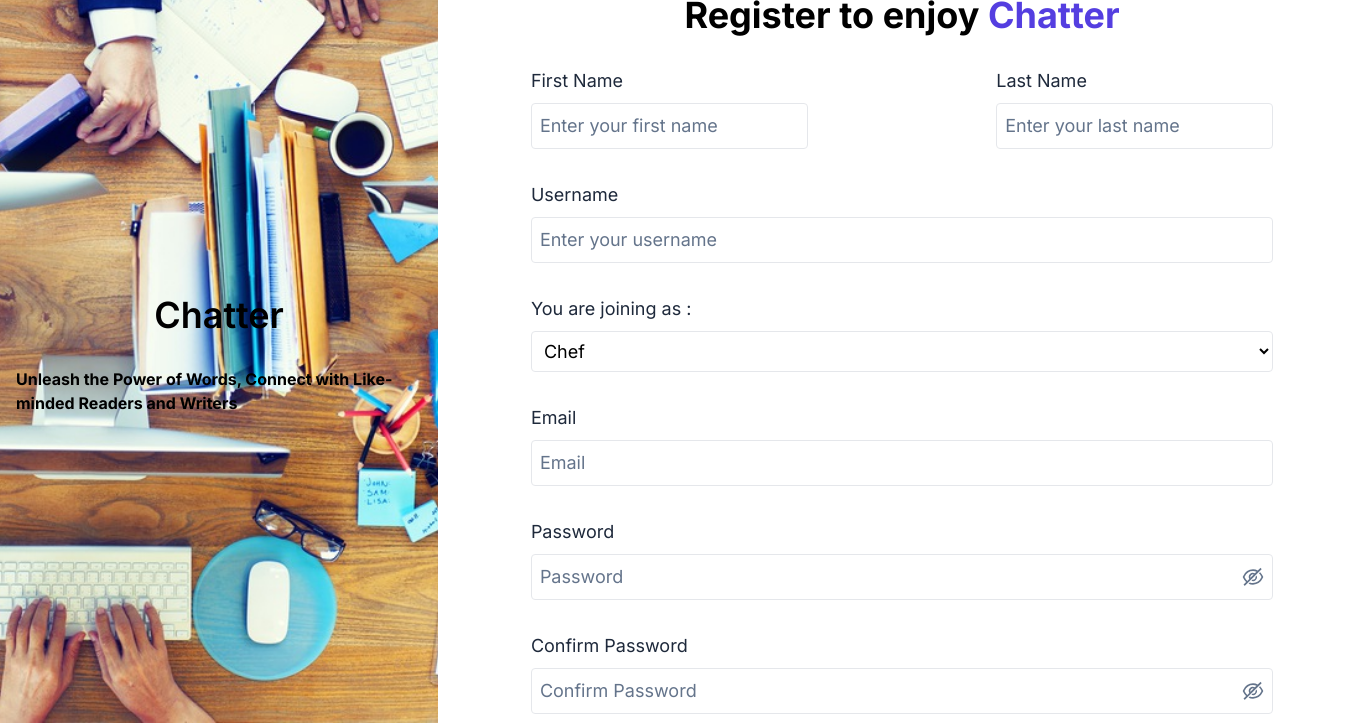
Test case: Sign Up Page › signup functionality › signup with passwords not matching
Type "test123" into the password field with placeholder "Password" at [902, 577], box x1=531 y1=554 x2=1273 y2=600
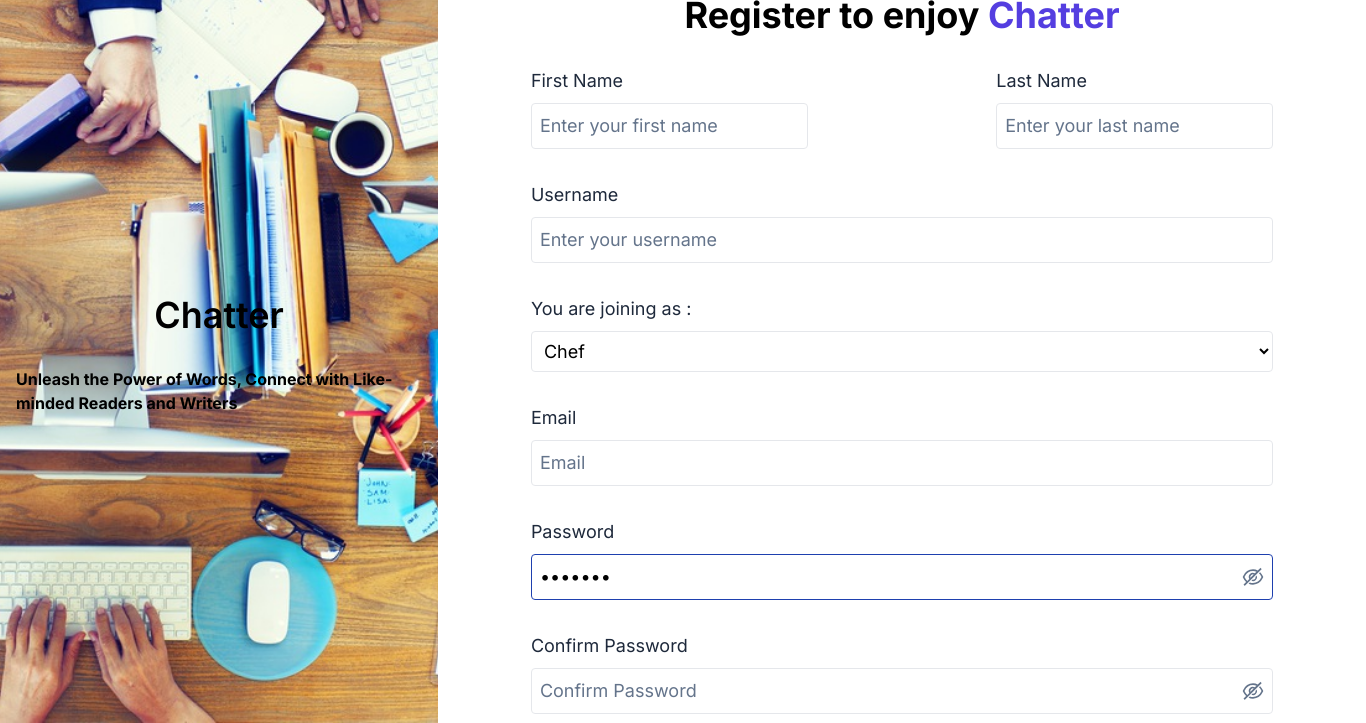
Type "test1234" into the password field with id "confirmPassword" at [902, 691], box x1=531 y1=668 x2=1273 y2=714
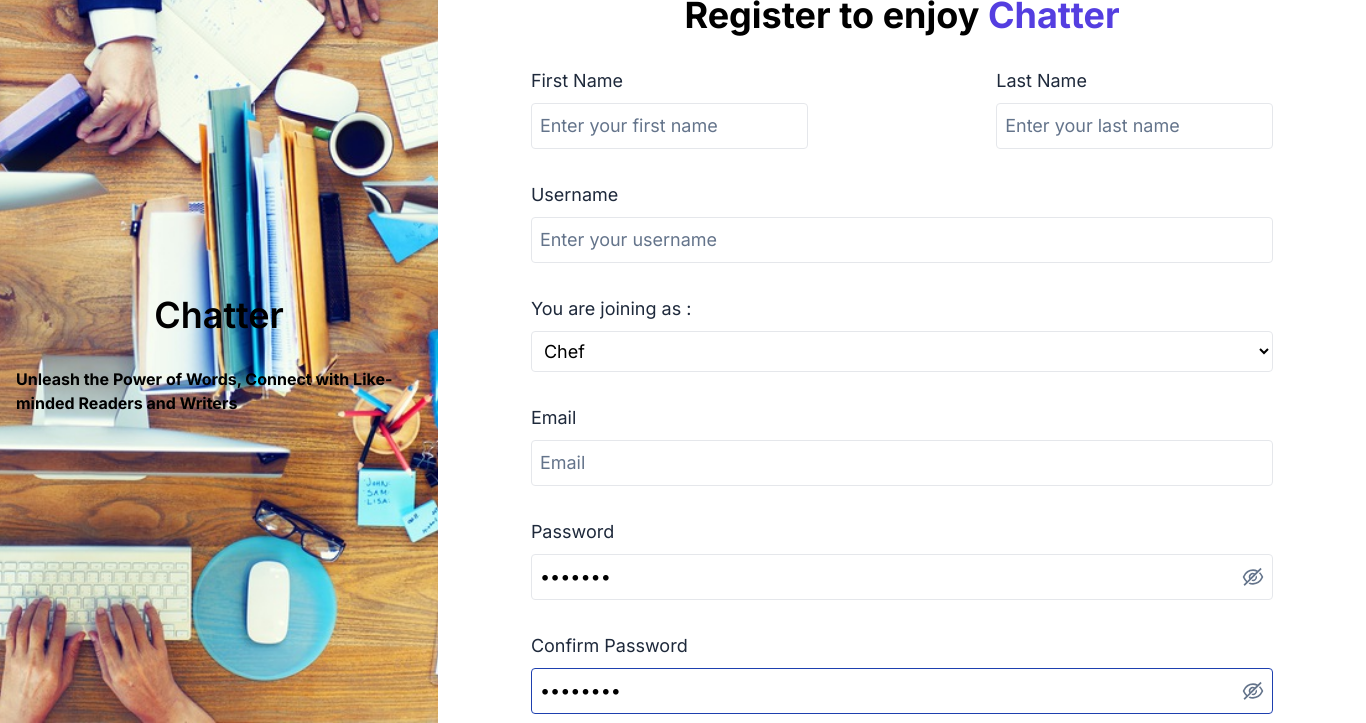
Scroll
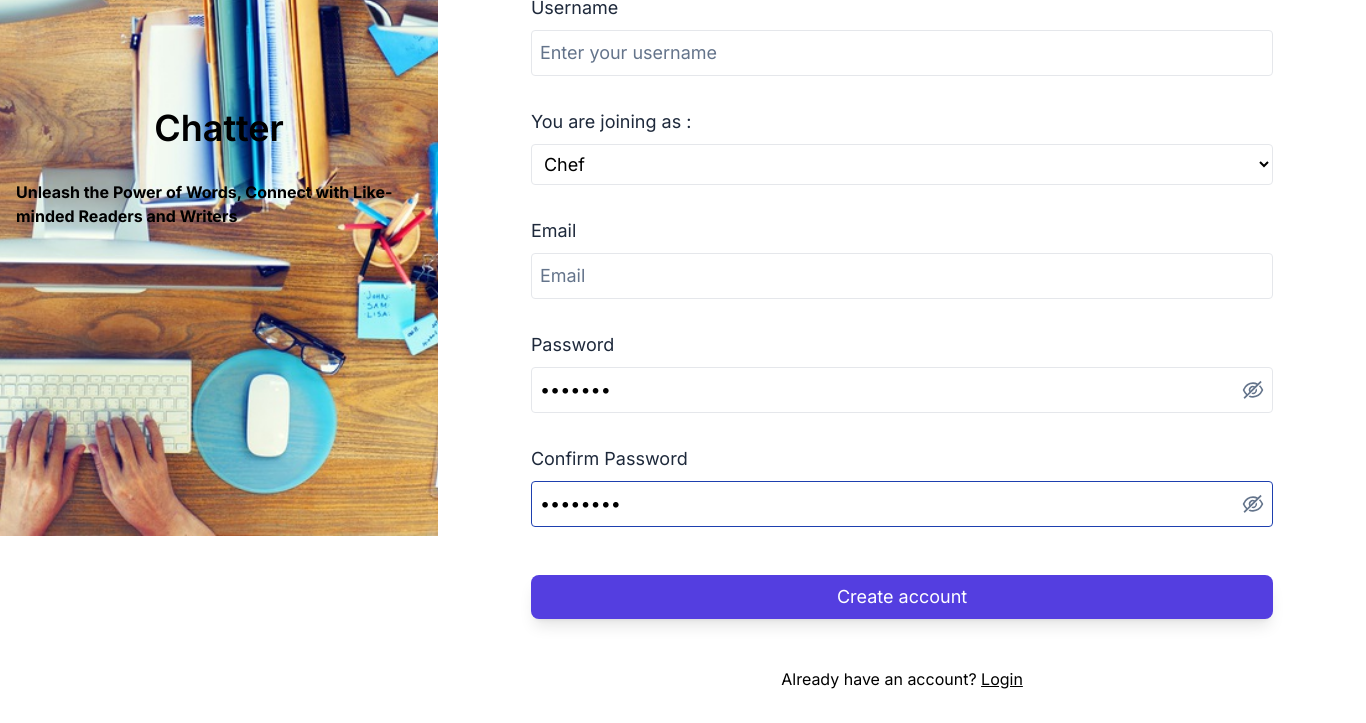
Click the button "Create account" at [902, 597], box x1=531 y1=575 x2=1273 y2=619
(page scrolled)
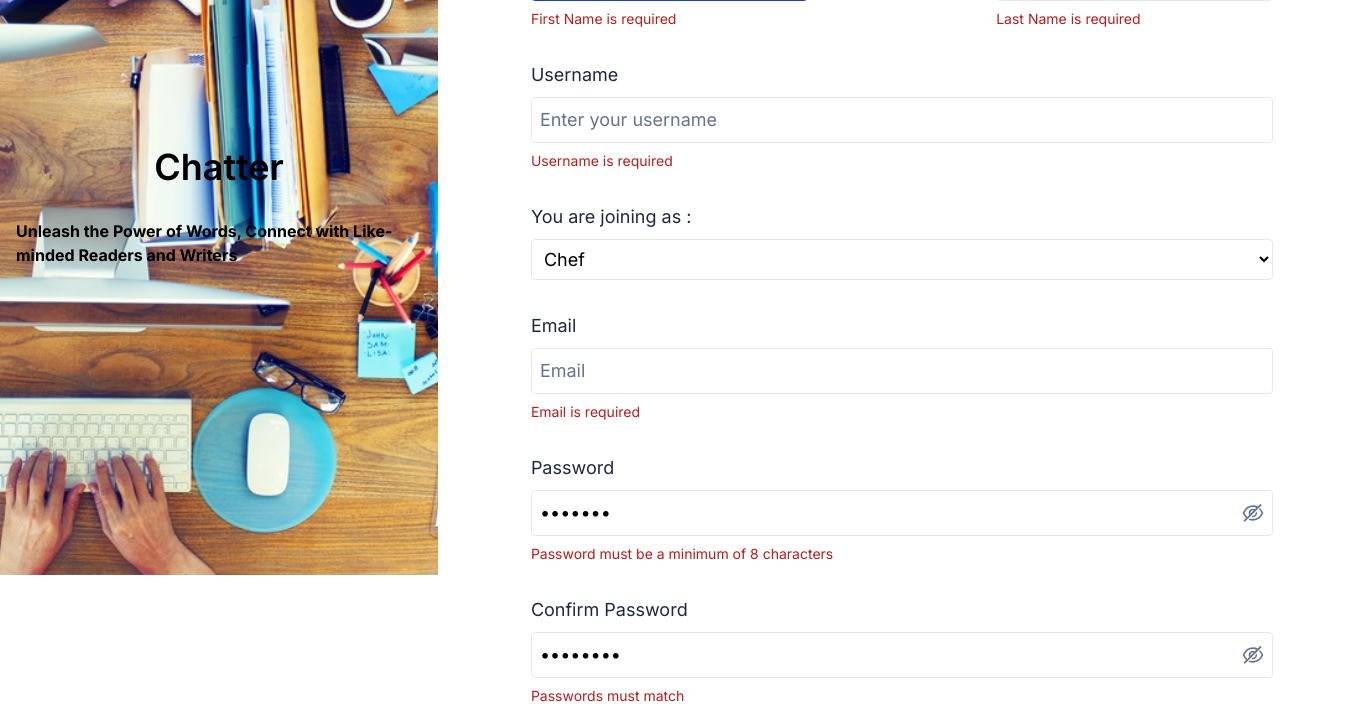
Now the message "First Name is required" is shown, box x1=531 y1=10 x2=676 y2=27
